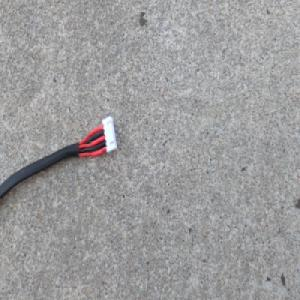Wire: (0, 112, 119, 211)
